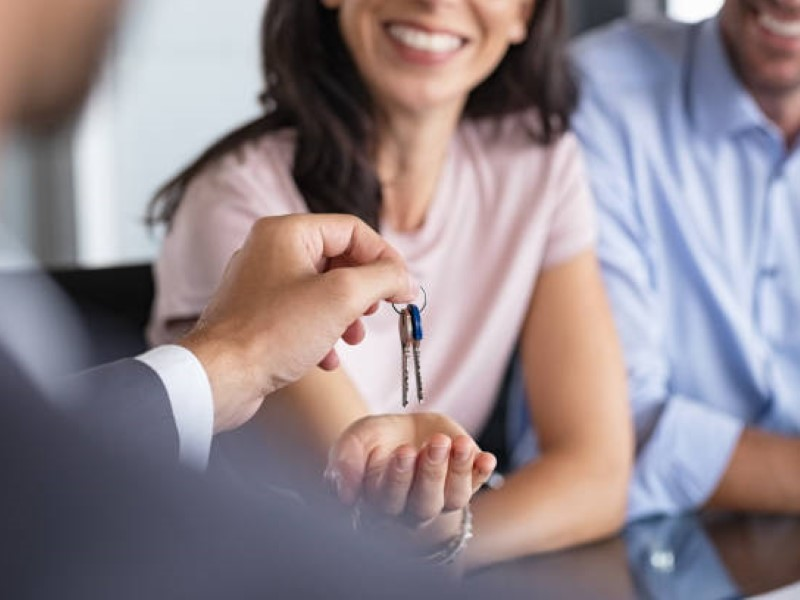key: (392, 301, 431, 410)
